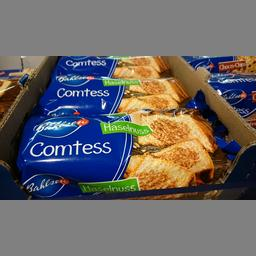cake: (17, 112, 242, 197), (33, 72, 194, 113), (54, 58, 176, 76)
